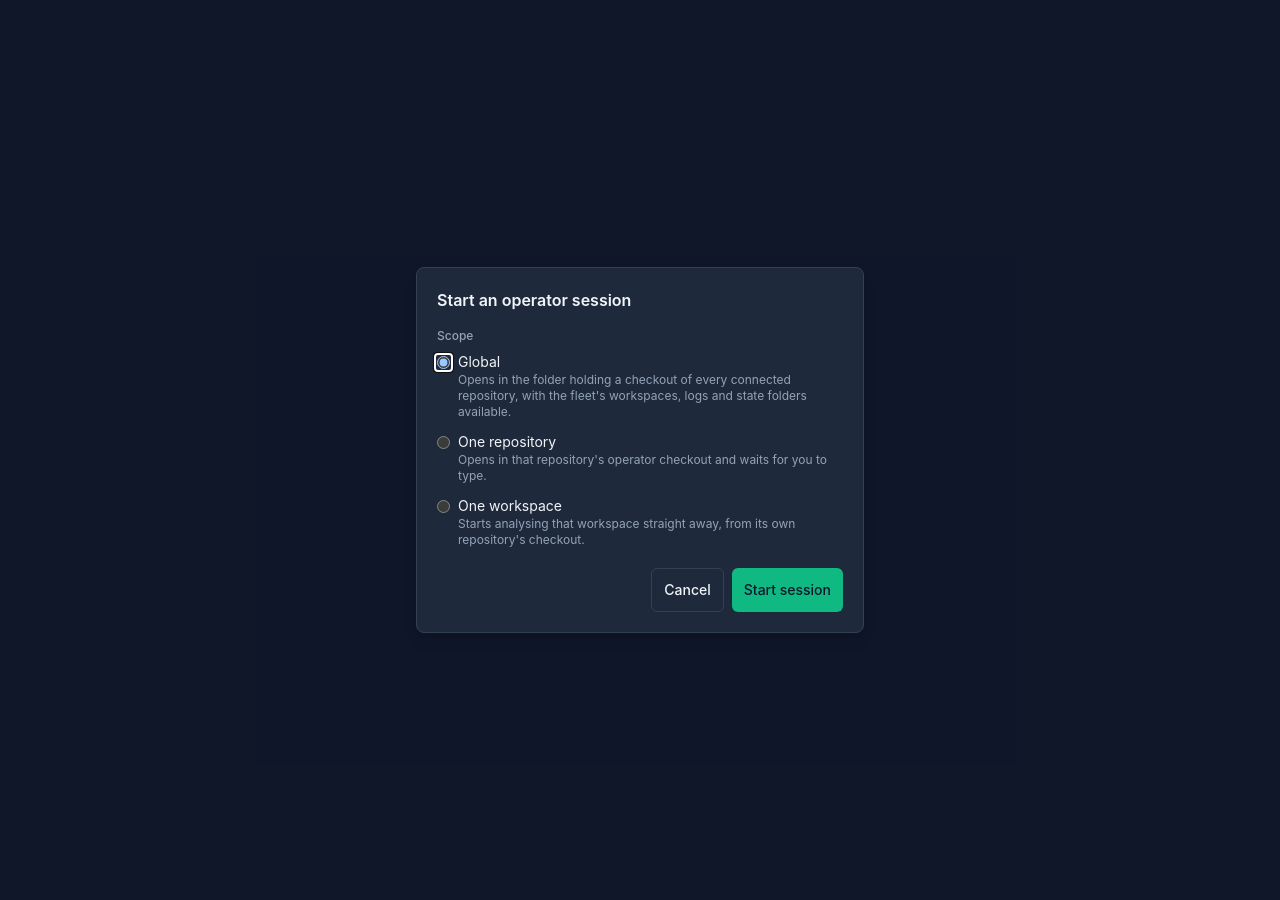
Scenario: ScopePickerDialog — starting a session › shows the exact unavailable sentence for a 503
Click the button with test id "operator-start-submit" at (787, 590), box x1=732 y1=568 x2=843 y2=612
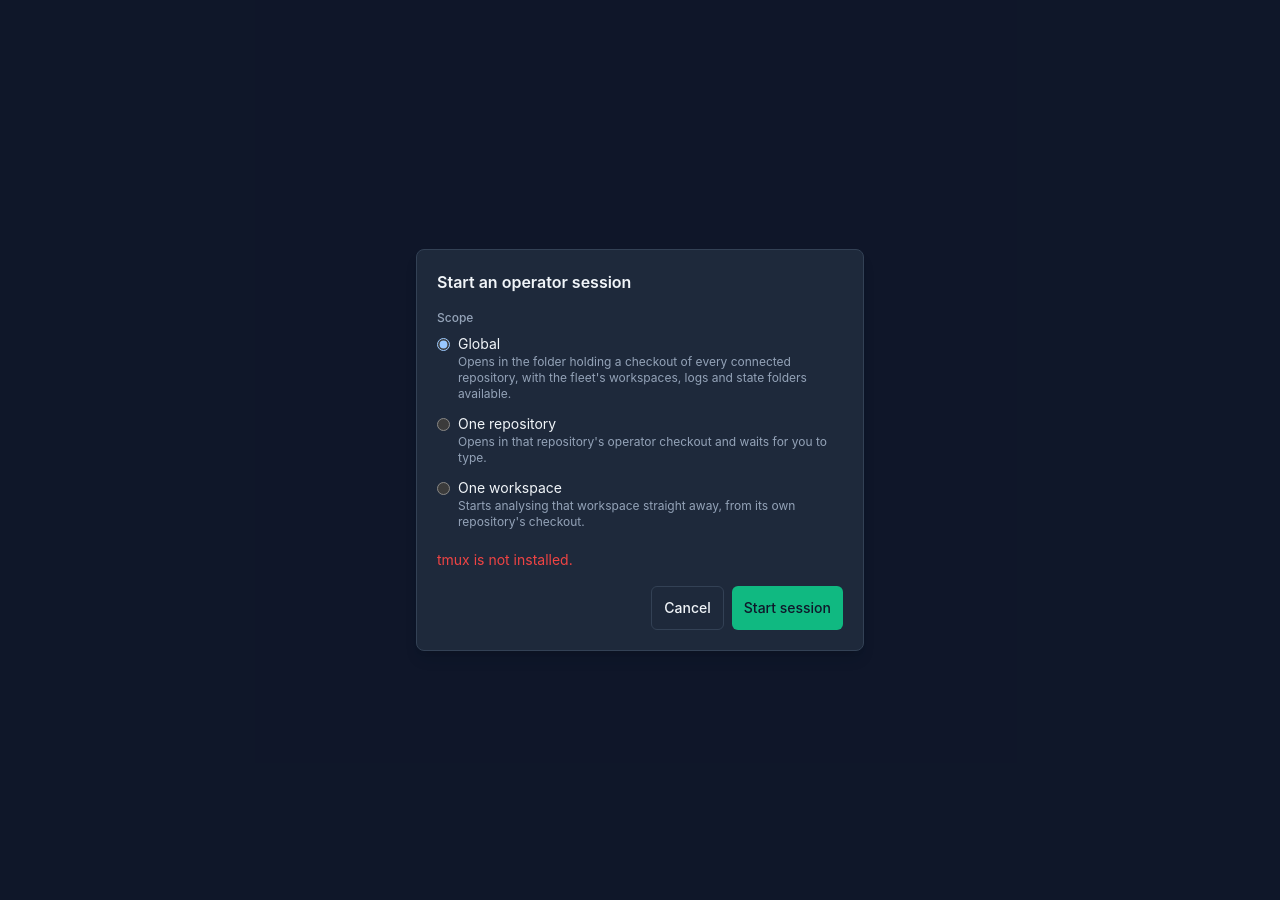
expect the message reads "tmux is not installed.": met, box x1=437 y1=551 x2=573 y2=568
